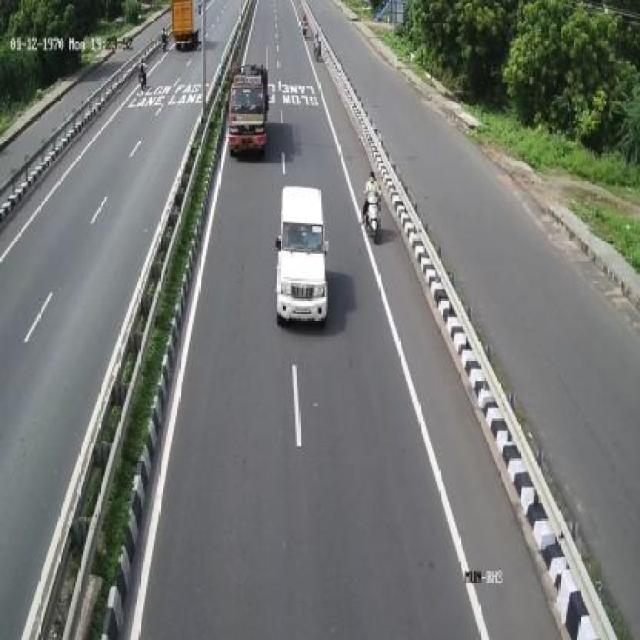car: (276, 182, 330, 322)
